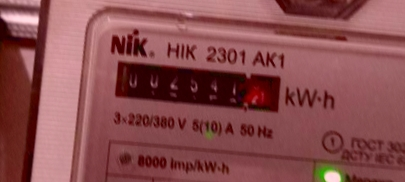0: (127, 65, 142, 87), (148, 65, 162, 87)
1: (229, 71, 242, 95)
2: (168, 66, 184, 89)
4: (209, 69, 222, 91)
5: (188, 68, 203, 92)
6: (250, 90, 262, 103)
screen: (102, 46, 296, 120)
